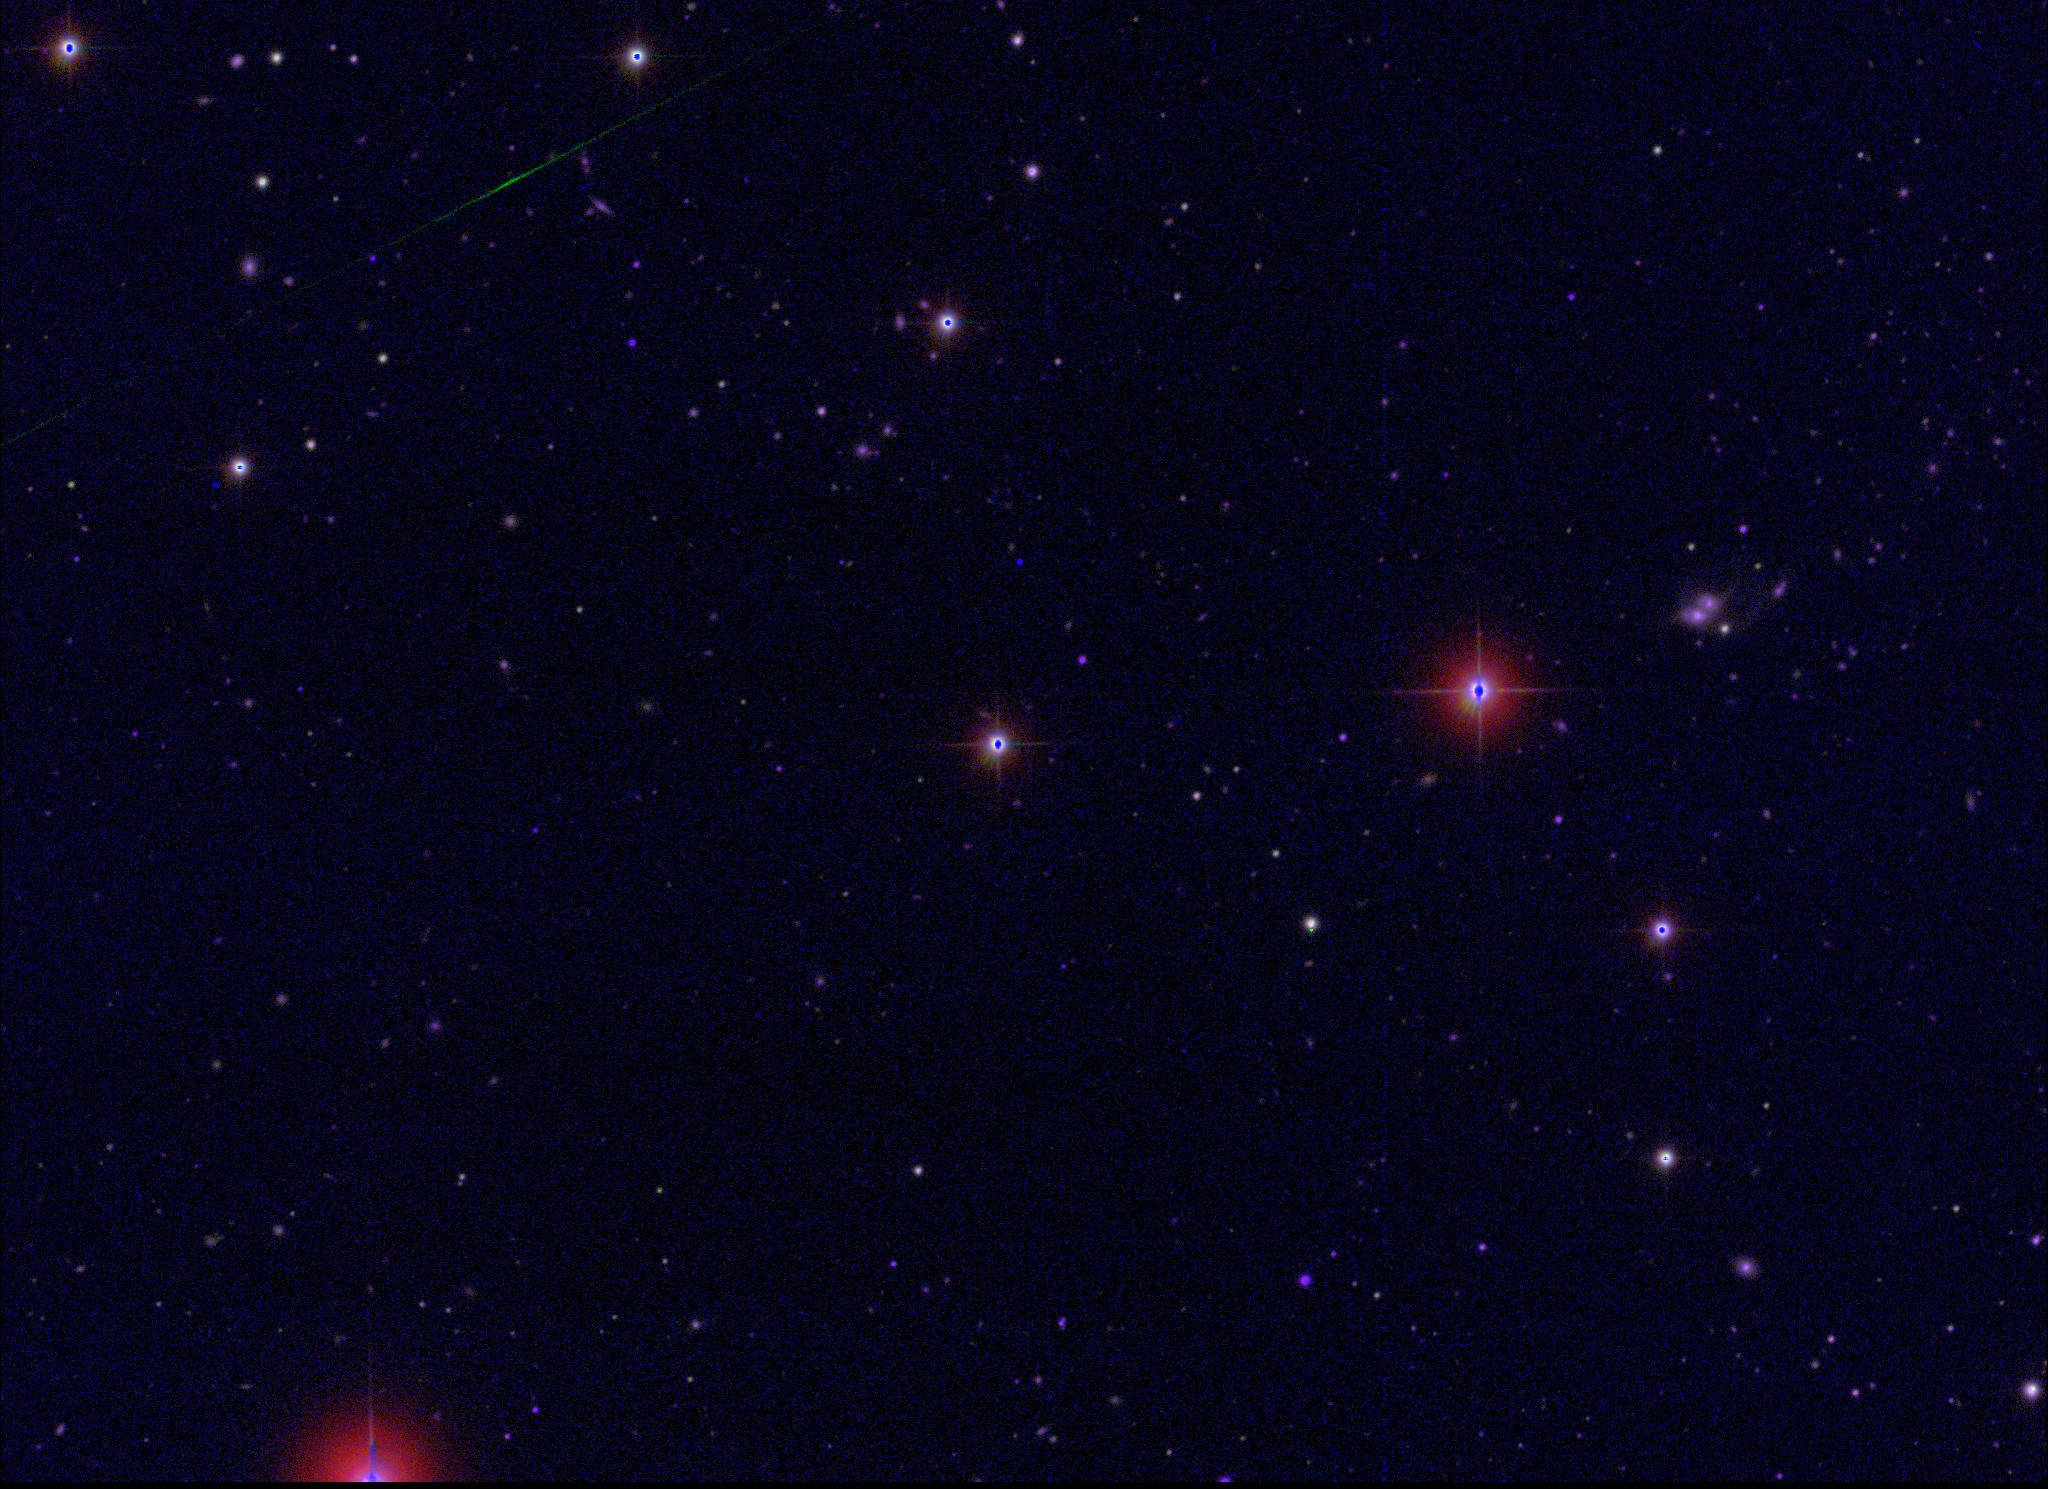L: (1014, 554, 1029, 566)
